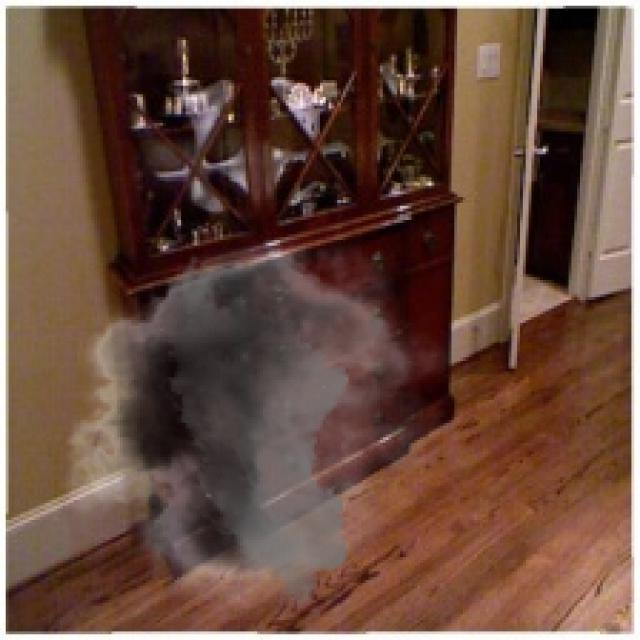smoke: (46, 223, 457, 608)
